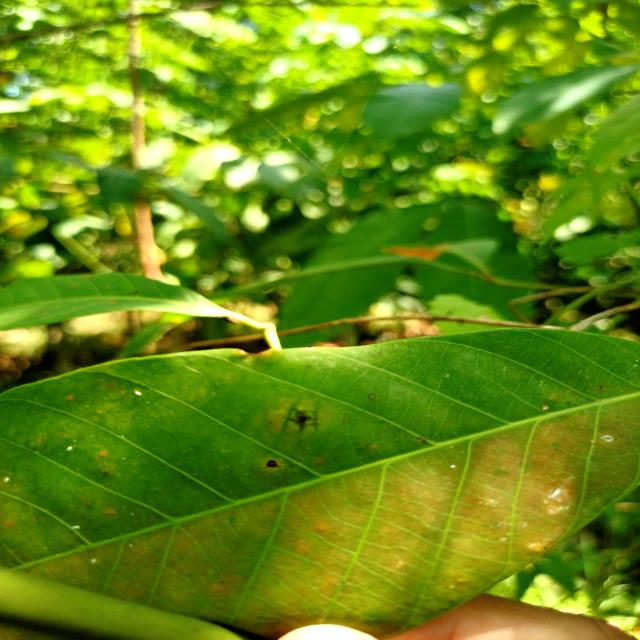Colletotrichum: (266, 460, 277, 468)
Corynespora: (282, 404, 320, 432)
